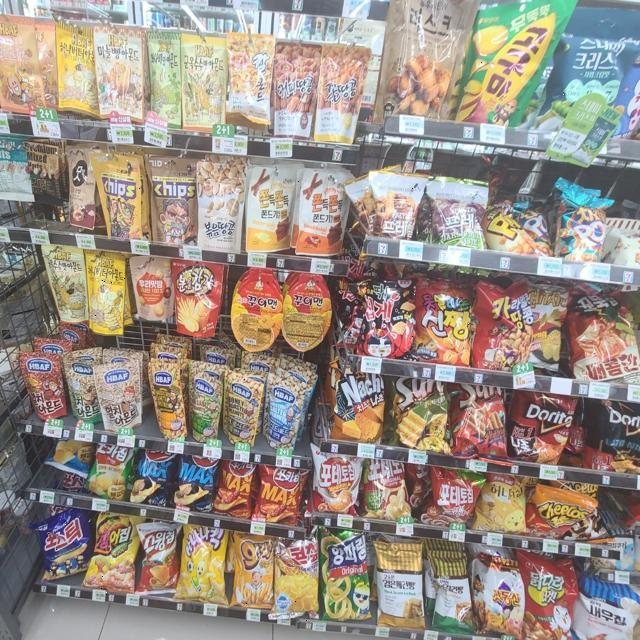product: (472, 1, 564, 126), (378, 2, 472, 112), (412, 282, 477, 365), (93, 152, 150, 244), (520, 389, 579, 468), (293, 170, 348, 252), (480, 285, 534, 365), (331, 363, 387, 440), (430, 178, 487, 253), (455, 379, 508, 458), (96, 506, 143, 594), (173, 259, 226, 337), (367, 176, 423, 246), (397, 373, 448, 449), (197, 162, 244, 243), (278, 531, 319, 623), (184, 522, 229, 603), (309, 447, 360, 514), (81, 250, 125, 326), (235, 528, 273, 607), (39, 520, 88, 579), (143, 522, 179, 586)
